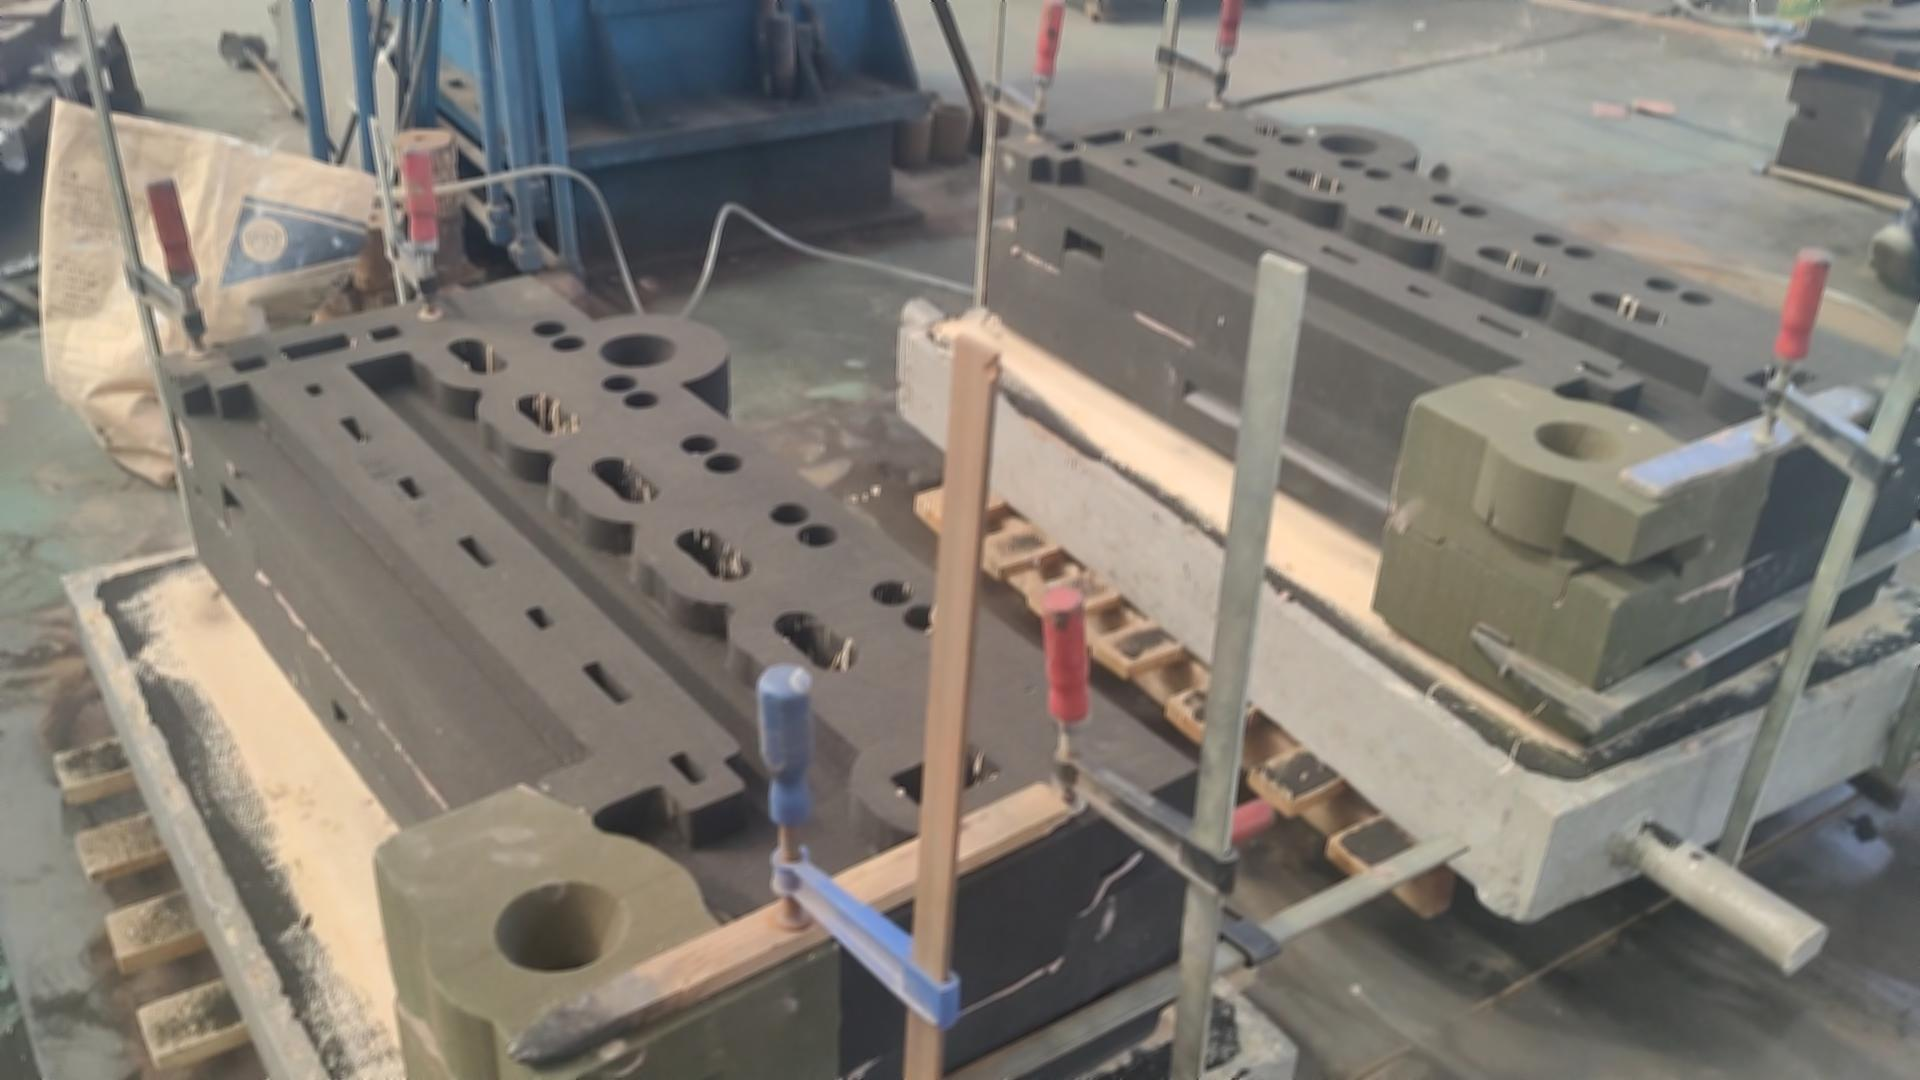pouring hole: (493, 884, 626, 975), (1536, 421, 1623, 462), (599, 334, 678, 369), (1319, 135, 1383, 154), (977, 98, 1010, 113), (894, 105, 931, 119), (932, 102, 971, 113), (909, 88, 942, 102), (1862, 7, 1896, 18)
